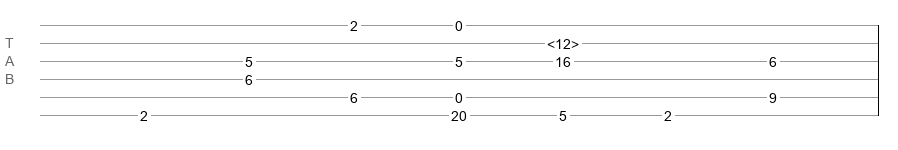0: (455, 90, 463, 100), (455, 18, 463, 28)
16: (555, 54, 571, 64)
2: (140, 108, 148, 118), (350, 18, 358, 28), (664, 108, 672, 118)
20: (451, 108, 467, 118)
5: (245, 54, 253, 64), (455, 54, 463, 64), (559, 108, 567, 118)
6: (245, 72, 253, 82), (350, 90, 358, 100), (769, 54, 777, 64)
9: (769, 90, 777, 100)
harmonic: (547, 36, 579, 46)
